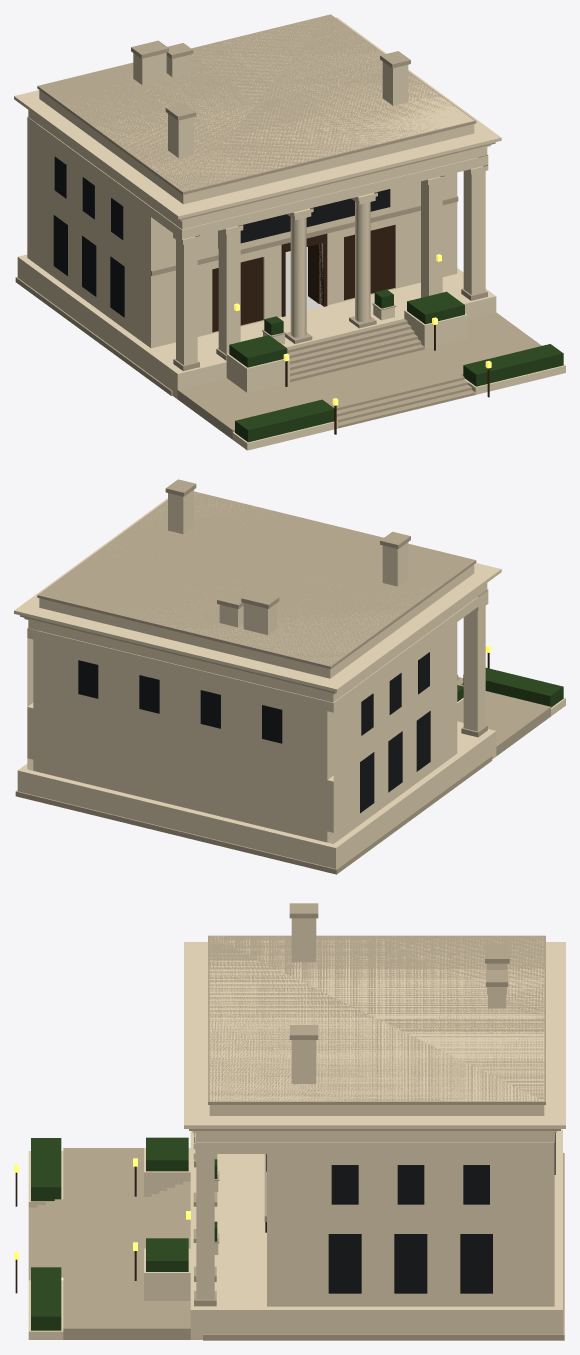
File: generated.greco_house.gltf
3 renders of one model, top to bottom at view 1: azimuth 30°, elevation 25°; view 2: azimuth 150°, elevation 25°; view 3: azimuth 270°, elevation 25°, orthographic. The views are drawn at different scales.
Parts seen in each view (by area): view 1: greco_house; view 2: greco_house; view 3: greco_house.
Part boxes in pixels (x1,y1,x2,y2): greco_house: (14,14,565,450); greco_house: (14,479,565,874); greco_house: (14,903,565,1340).
Size of the model in its own units: 21.1 by 15.05 by 26.87.
